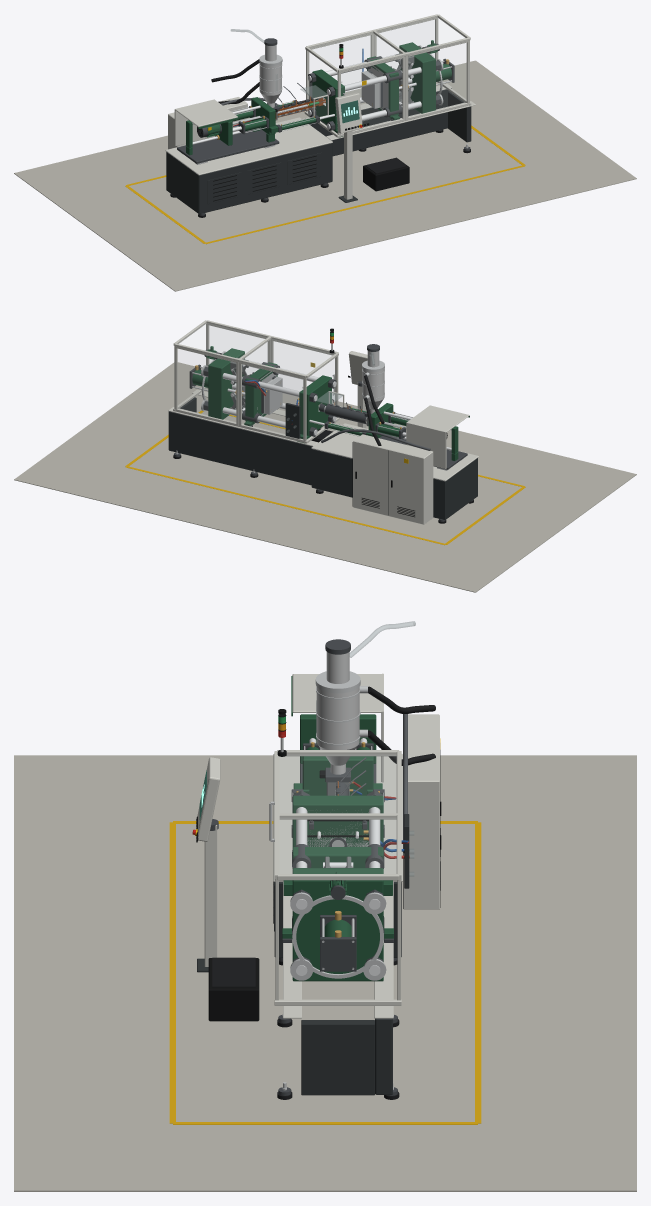
Rendered from injection-motion.glb.
3 views of the same model, one above another, from view 1: azimuth 30°, elevation 25°; view 2: azimuth 150°, elevation 25°; view 3: azimuth 270°, elevation 25° (orthographic). The views are drawn at different scales.
Parts seen in each view (by area): view 1: Floor, Machine base, Injection unit, Safety guards, Clamp unit static, Moving platen assembly, Parts tote, Operator HMI head, Utilities, Operator HMI stand, Screw drive; view 2: Floor, Machine base, Safety guards, Utilities, Injection unit, Clamp unit static, Moving platen assembly, Operator HMI head; view 3: Floor, Clamp unit static, Machine base, Injection unit, Utilities, Safety guards, Parts tote, Moving platen assembly, Operator HMI stand, Operator HMI head, Screw drive.
Part boxes in pixels (x1,y1,x2,y2): Floor: (14,60,636,291); Machine base: (165,83,475,217); Injection unit: (174,29,325,164); Safety guards: (300,14,471,137); Clamp unit static: (308,40,454,137); Moving platen assembly: (361,56,402,120); Parts tote: (363,157,409,191); Operator HMI head: (335,92,369,133); Utilities: (168,82,312,149); Operator HMI stand: (338,131,357,202); Screw drive: (197,121,241,145); Floor: (14,362,636,592); Machine base: (168,389,478,523); Safety guards: (173,320,344,443); Utilities: (285,399,433,524); Injection unit: (318,344,469,470); Clamp unit static: (189,346,336,443); Moving platen assembly: (242,362,282,426); Operator HMI head: (348,351,367,384); Floor: (14,755,636,1191); Clamp unit static: (283,790,392,981); Machine base: (273,753,402,1099); Injection unit: (291,621,435,837); Utilities: (368,714,441,909); Safety guards: (269,709,401,1005); Parts tote: (208,957,259,1021); Moving platen assembly: (282,844,393,942); Operator HMI stand: (197,819,218,972); Operator HMI head: (192,757,220,842); Screw drive: (300,714,376,763).
Bounding box in the file's own units: 8.1 × 2.52 × 4.9.
